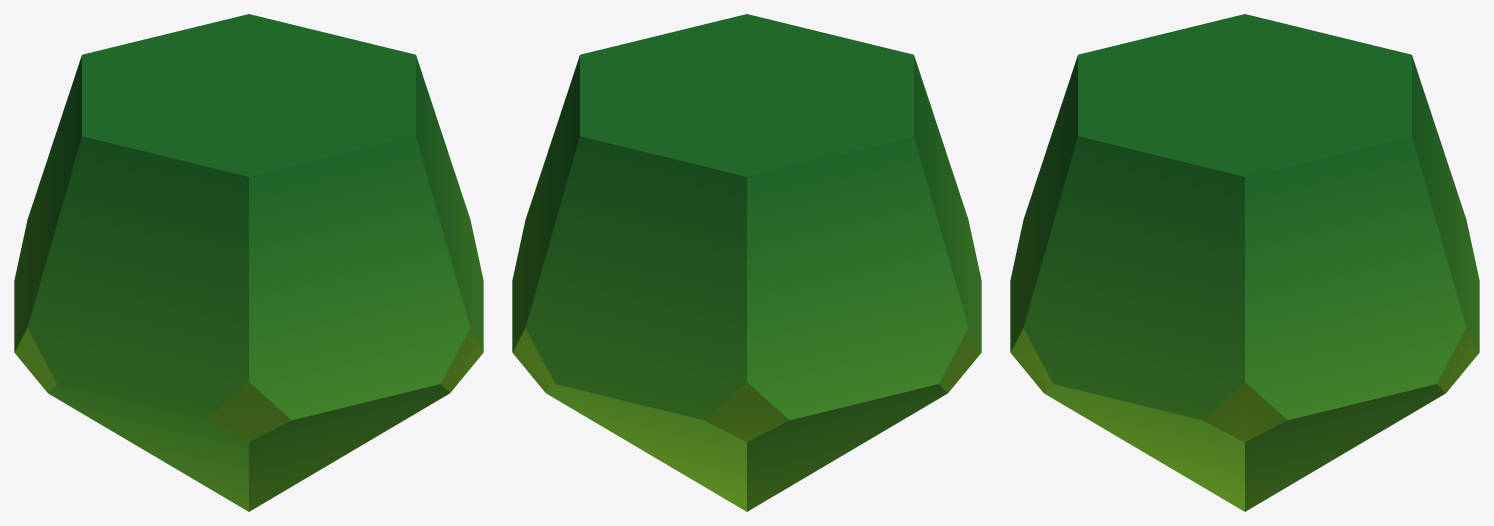
The model's file is decor_015.fbx.
The picture shows the model from 3 angles, left to right: view 1: azimuth 30°, elevation 25°; view 2: azimuth 150°, elevation 25°; view 3: azimuth 270°, elevation 25°; orthographic projection.
Parts seen in each view (by area): view 1: decor.015; view 2: decor.015; view 3: decor.015.
Boxes of the visible parts, x1,y1,x2,y2 form: decor.015: (14,14,483,511); decor.015: (512,14,981,511); decor.015: (1010,14,1479,511).
Bounding box in the file's own units: 8.06 × 7.24 × 7.39.
